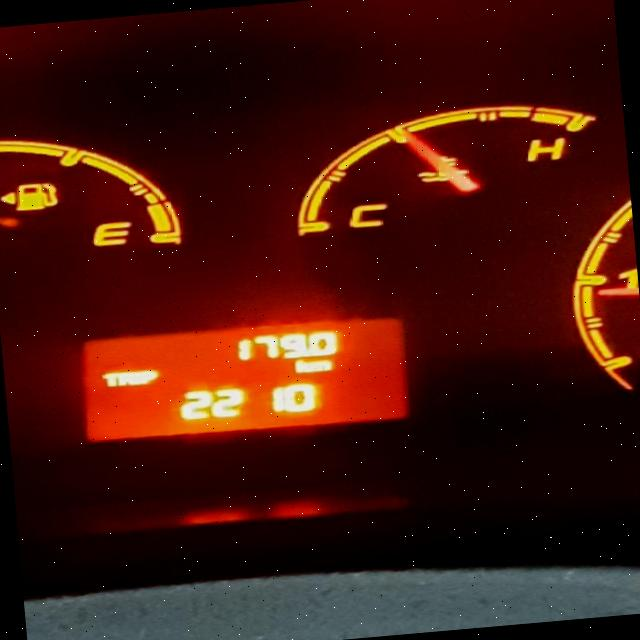odometer: (72, 308, 414, 448)
